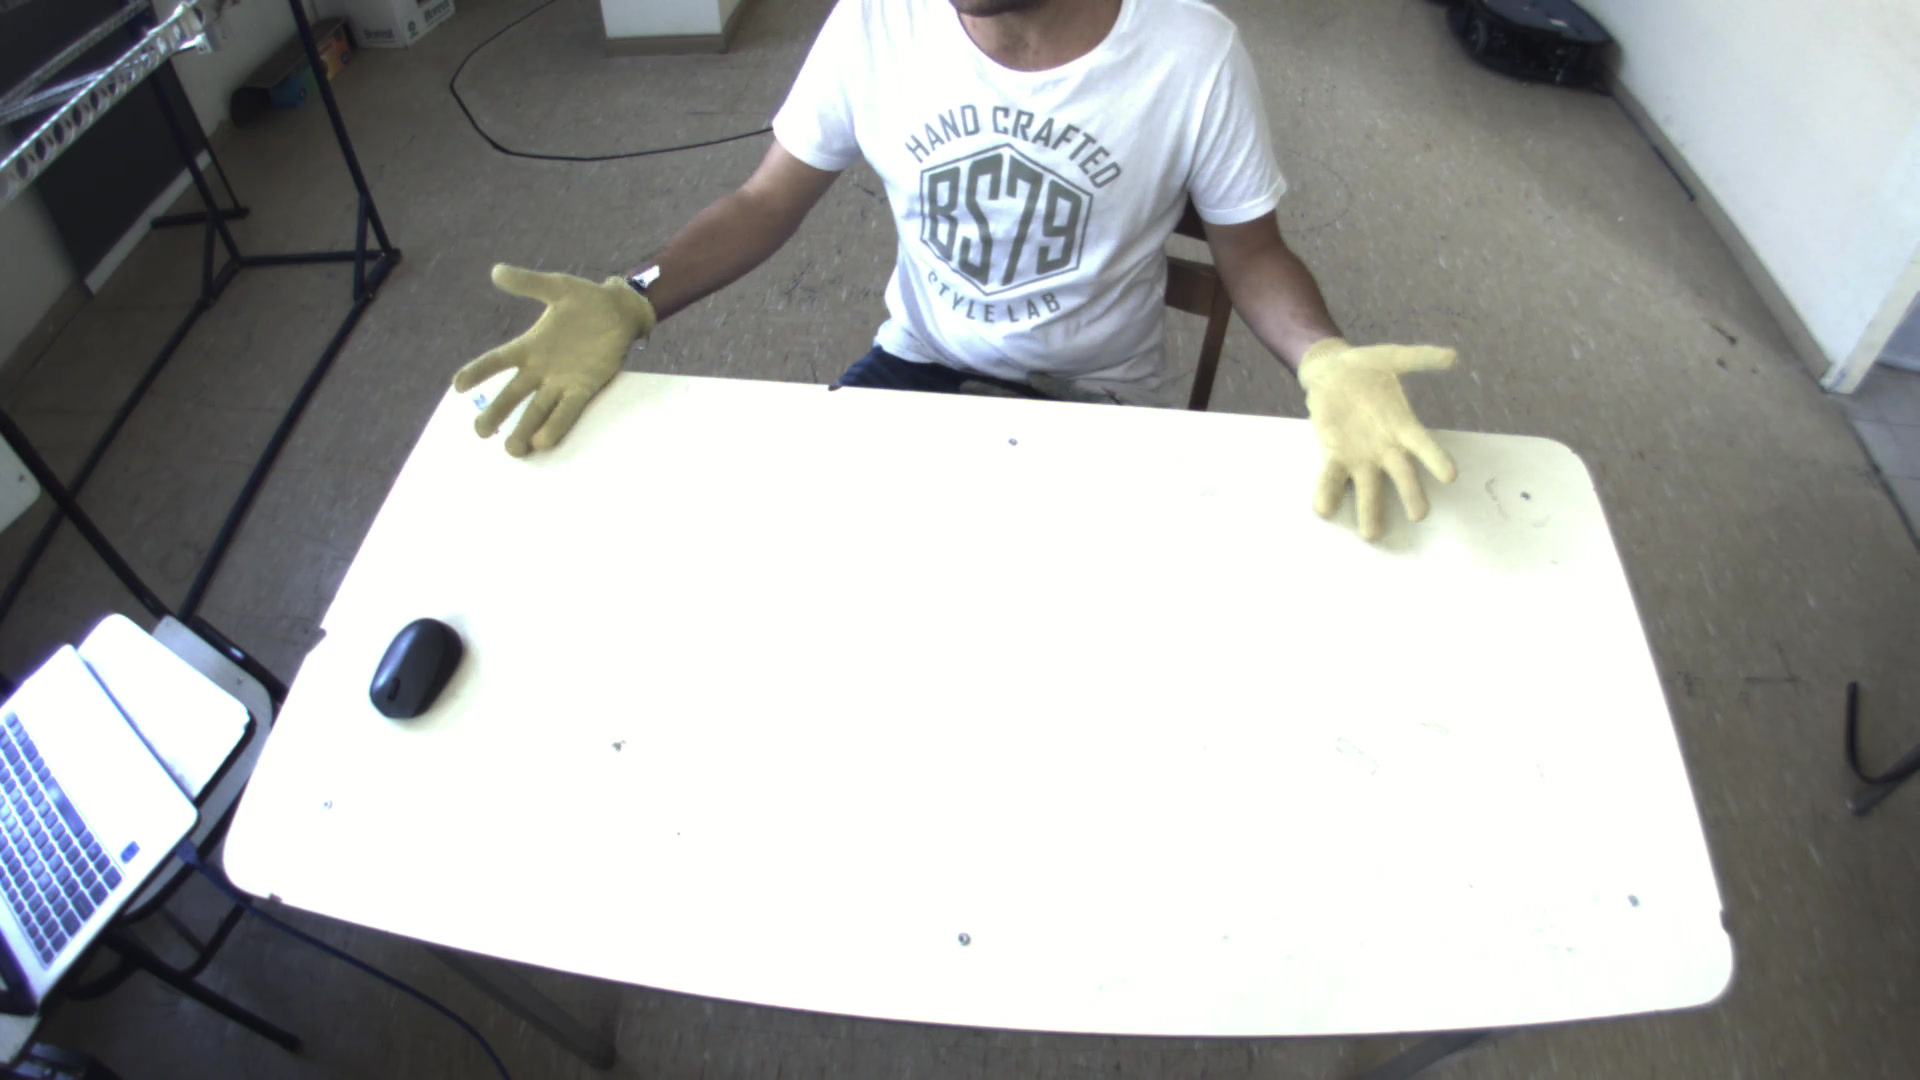hand: (433, 244, 653, 460), (1296, 316, 1477, 550)
